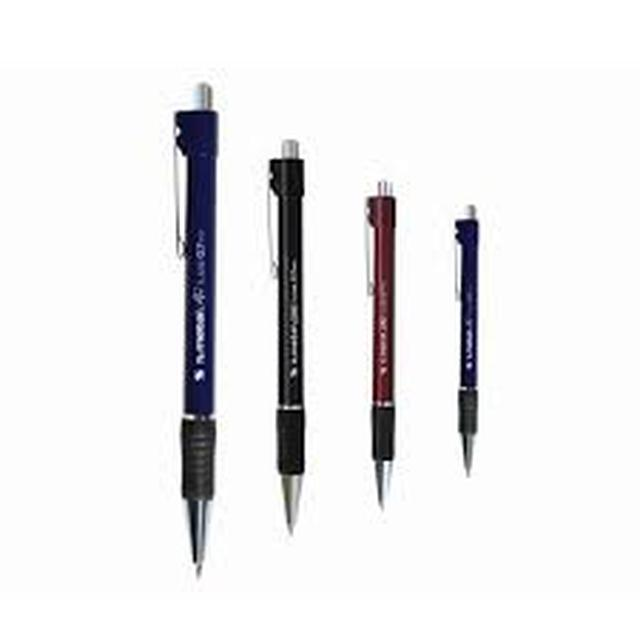pen: (142, 56, 230, 594), (254, 110, 348, 560), (338, 156, 417, 526), (432, 174, 510, 497)
